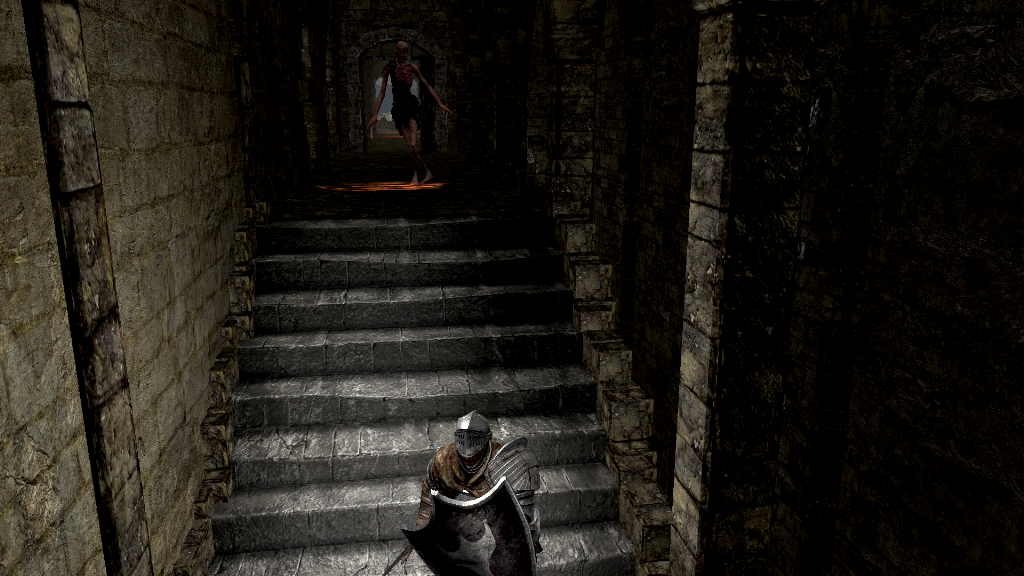hollow: (366, 41, 453, 185)
player: (370, 409, 543, 576)
